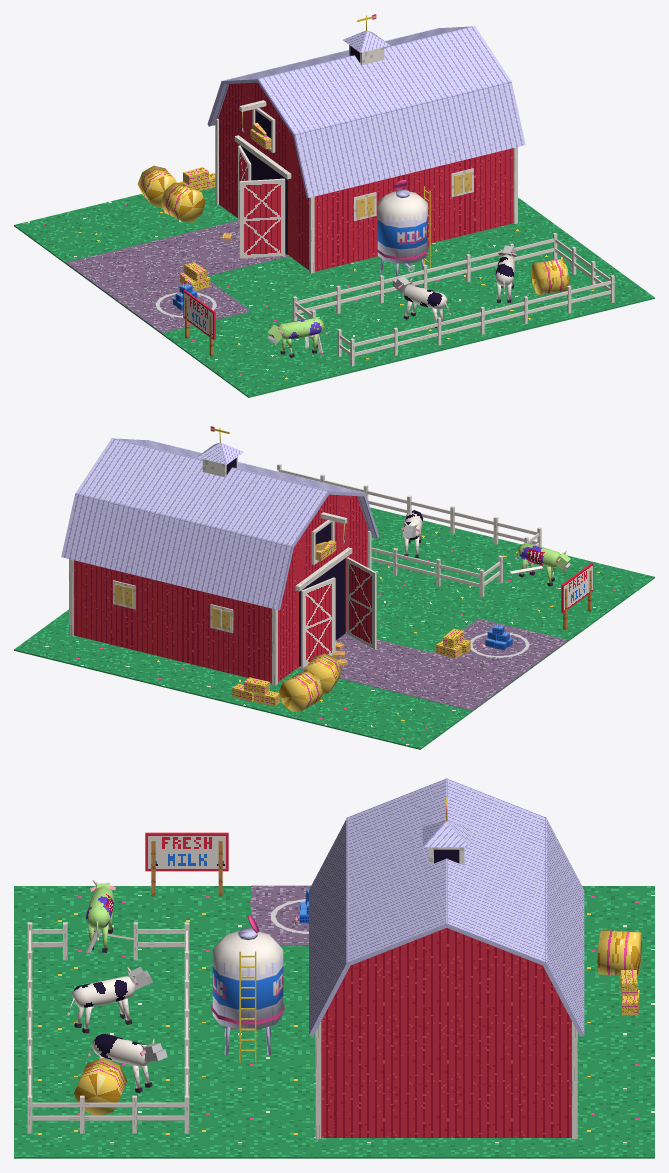
File: Dairy Farm Stop.fbx
3 renders of one model, top to bottom at view 1: azimuth 30°, elevation 25°; view 2: azimuth 150°, elevation 25°; view 3: azimuth 270°, elevation 25°, orthographic. The views are drawn at different scales.
Visible parts, largest first — view 1: Dairy Farm Stop ground, Dairy Farm Stop barn walls, Dairy Farm Stop barn roof 0, Dairy Farm Stop barn roof 1, Dairy Farm Stop driveway, Dairy Farm Stop barn door -1.001, Dairy Farm Stop tank, Dairy Farm Stop pickup apron, Dairy Farm Stop barn roof 2, Dairy Farm Stop round bale A.001, Dairy Farm Stop round bale C.001, Dairy Farm Stop fence S rail 0.5 (+10 smaller); view 2: Dairy Farm Stop ground, Dairy Farm Stop barn walls, Dairy Farm Stop barn roof 3, Dairy Farm Stop barn roof 2, Dairy Farm Stop driveway, Dairy Farm Stop pickup apron, Dairy Farm Stop barn door 1.001, Dairy Farm Stop barn door -1.001, Dairy Farm Stop barn roof 1, Dairy Farm Stop round bale B.001, Dairy Farm Stop door opening, Dairy Farm Stop fence S rail 0.95 (+7 smaller); view 3: Dairy Farm Stop ground, Dairy Farm Stop barn walls, Dairy Farm Stop barn roof 1, Dairy Farm Stop barn roof 2, Dairy Farm Stop barn roof 0, Dairy Farm Stop barn roof 3, Dairy Farm Stop tank, Dairy Farm Stop sign board, Dairy Farm Stop pickup apron, Dairy Farm Stop round bale C.001, Dairy Farm Stop round bale B.001, Dairy Farm Stop scared cow A body (+7 smaller).
Part boxes in pixels (<box>): Dairy Farm Stop ground: <box>14,187,654,397</box>; Dairy Farm Stop barn walls: <box>218,82,513,271</box>; Dairy Farm Stop barn roof 0: <box>293,81,525,198</box>; Dairy Farm Stop barn roof 1: <box>258,26,511,136</box>; Dairy Farm Stop driveway: <box>65,220,289,298</box>; Dairy Farm Stop barn door -1.001: <box>239,178,285,258</box>; Dairy Farm Stop tank: <box>377,191,427,263</box>; Dairy Farm Stop pickup apron: <box>115,281,250,333</box>; Dairy Farm Stop barn roof 2: <box>221,26,475,84</box>; Dairy Farm Stop round bale A.001: <box>161,182,205,222</box>; Dairy Farm Stop round bale C.001: <box>531,259,569,294</box>; Dairy Farm Stop fence S rail 0.5: <box>354,290,611,355</box>; Dairy Farm Stop ground: <box>14,507,654,749</box>; Dairy Farm Stop barn walls: <box>73,494,368,683</box>; Dairy Farm Stop barn roof 3: <box>61,493,293,610</box>; Dairy Farm Stop barn roof 2: <box>75,438,328,547</box>; Dairy Farm Stop driveway: <box>297,632,520,710</box>; Dairy Farm Stop pickup apron: <box>432,618,568,674</box>; Dairy Farm Stop barn door 1.001: <box>301,577,335,667</box>; Dairy Farm Stop barn door -1.001: <box>346,557,376,649</box>; Dairy Farm Stop barn roof 1: <box>111,438,364,496</box>; Dairy Farm Stop round bale B.001: <box>279,671,323,711</box>; Dairy Farm Stop door opening: <box>299,558,345,666</box>; Dairy Farm Stop fence S rail 0.95: <box>280,469,537,534</box>; Dairy Farm Stop ground: <box>14,886,654,1158</box>; Dairy Farm Stop barn walls: <box>321,928,572,1137</box>; Dairy Farm Stop barn roof 1: <box>346,778,448,965</box>; Dairy Farm Stop barn roof 2: <box>445,778,546,965</box>; Dairy Farm Stop barn roof 0: <box>309,817,351,1036</box>; Dairy Farm Stop barn roof 3: <box>542,817,584,1036</box>; Dairy Farm Stop tank: <box>212,930,283,1029</box>; Dairy Farm Stop sign board: <box>145,832,228,871</box>; Dairy Farm Stop pickup apron: <box>251,885,310,945</box>; Dairy Farm Stop round bale C.001: <box>74,1058,126,1115</box>; Dairy Farm Stop round bale B.001: <box>597,930,641,975</box>; Dairy Farm Stop scared cow A body: <box>72,976,135,1007</box>.
Size of the model in its own units: 20 by 9.87 by 20.
